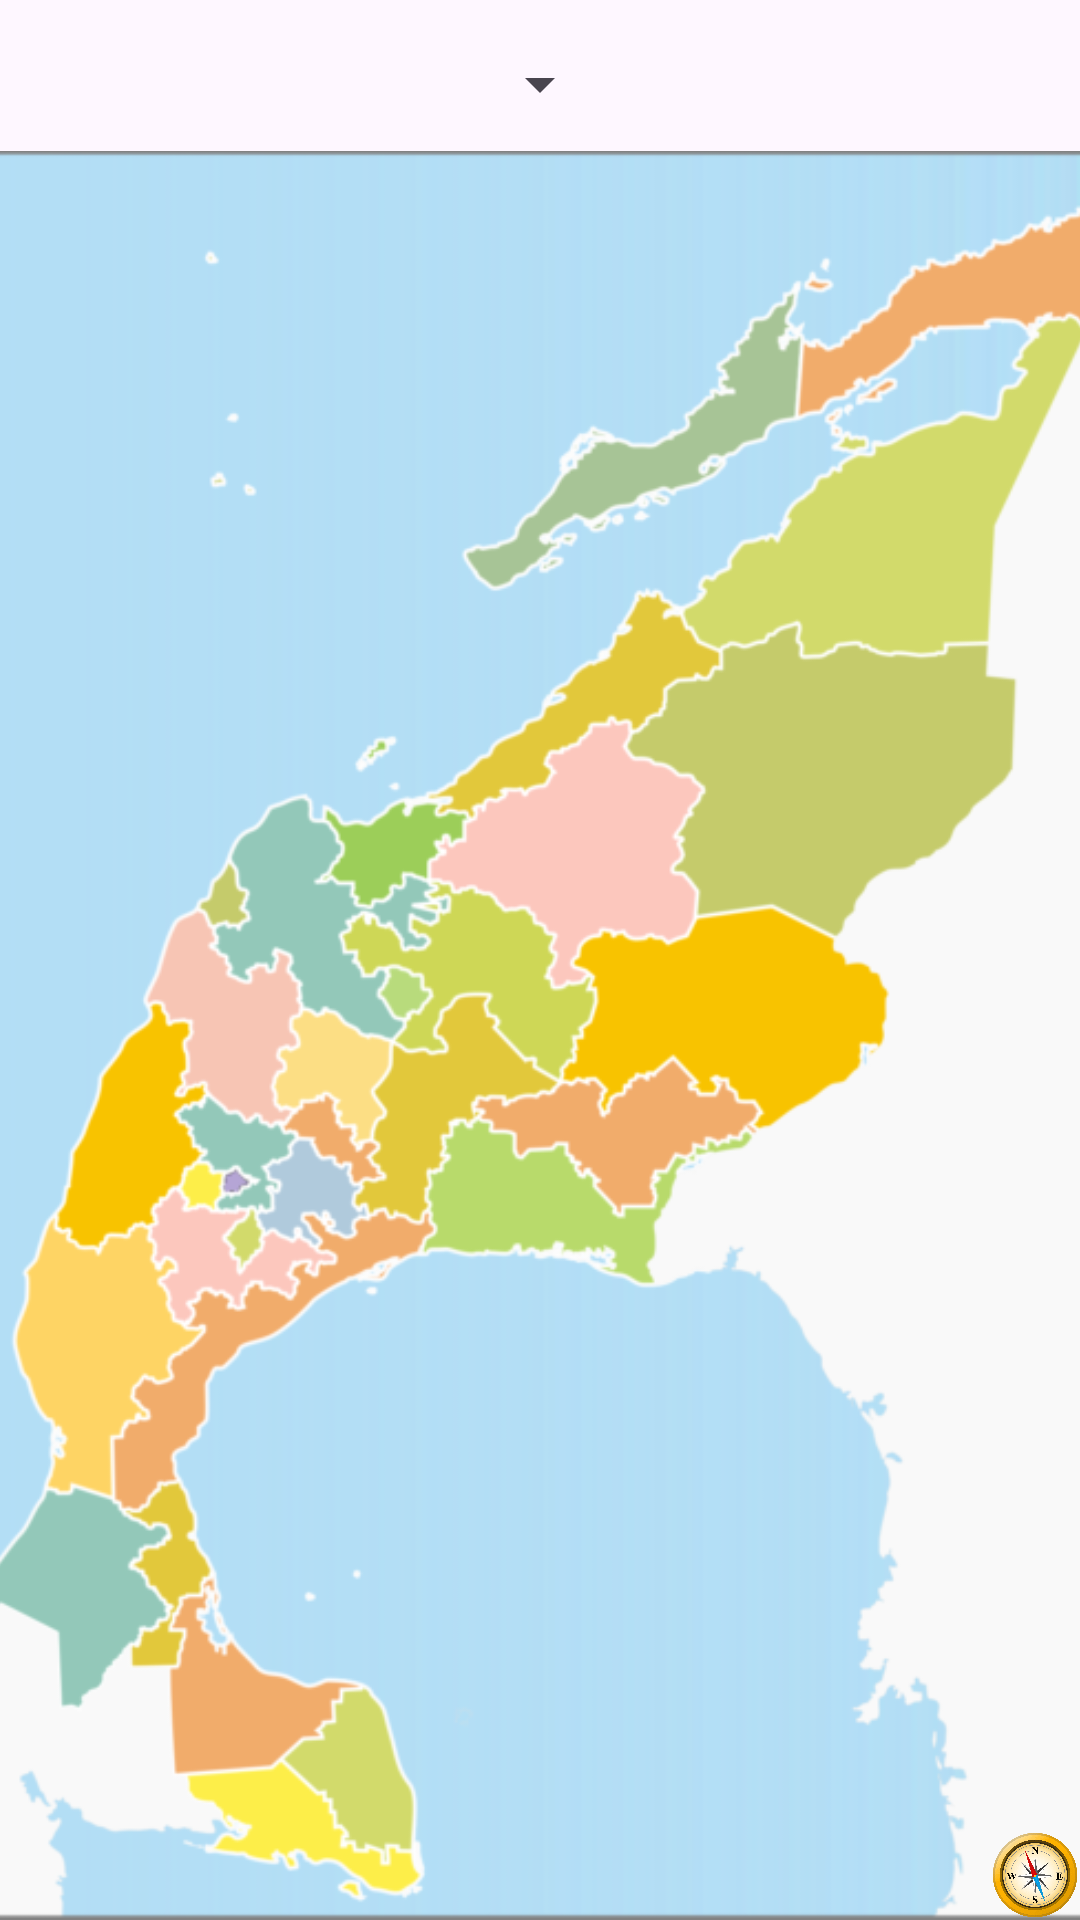

Icons on this 1080w x 1920h Android screen, each with its box as (x1, y1, x2, y2):
brujula: (990, 1833, 1080, 1920)
